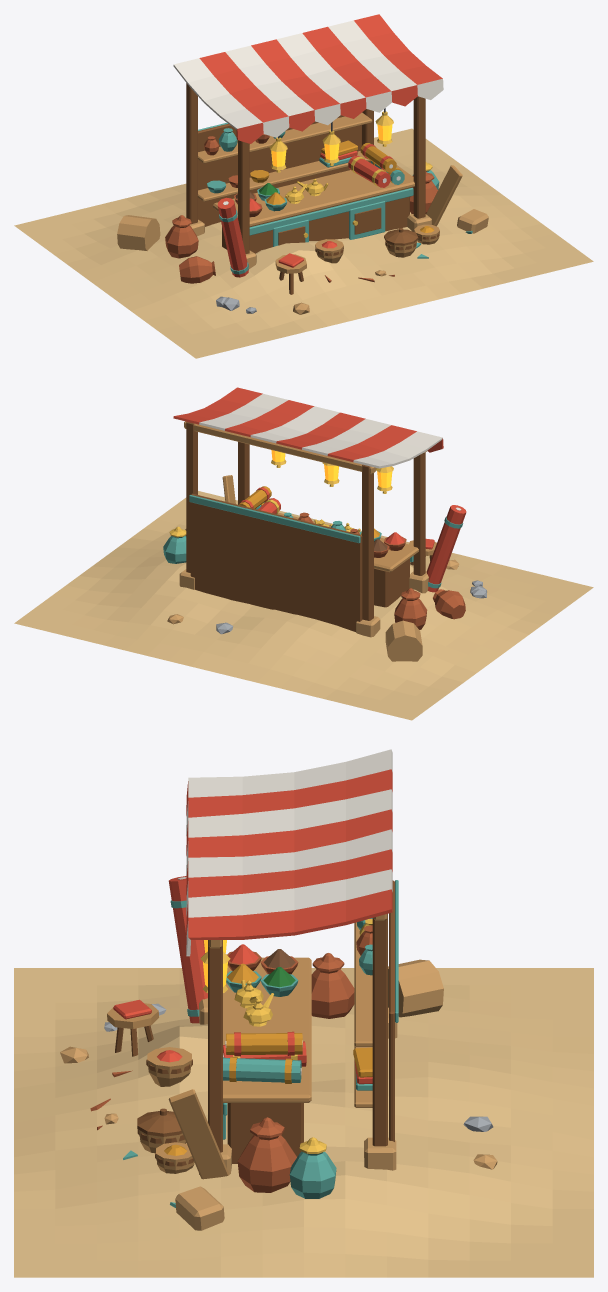
File: desert-bazaar-stall.glb
3 renders of one model, top to bottom at view 1: azimuth 30°, elevation 25°; view 2: azimuth 150°, elevation 25°; view 3: azimuth 270°, elevation 25°, orthographic. The views are drawn at different scales.
Parts seen in each view (by area): view 1: Sand_Mound, Canopy, Back_Panel, Counter_Top, Counter_Body, Shelf_High, Post_L_B, Post_R_F, Shelf_Low, Counter_Trim, Column_Drum_Fallen, Carpet_Roll_Leaning (+12 smaller); view 2: Sand_Mound, Back_Panel, Canopy, Post_L_B, Post_L_F, Beam_Back, Carpet_Roll_Leaning, Back_Trim, Column_Drum_Fallen, Counter_Body, Post_R_B, Amphora_Tipped (+4 smaller); view 3: Sand_Mound, Canopy, Counter_Top, Post_R_B, Post_R_F, Counter_Body, Spice_Pot_1, Plank_Loose, Column_Drum_Fallen, Carpet_Roll_Leaning, Spice_Pot_3, Spice_Pot_2 (+10 smaller).
Boxes of the visible parts, x1,y1,x2,y2 form: Sand_Mound: [14, 128, 593, 358]; Canopy: [173, 14, 443, 143]; Back_Panel: [198, 115, 361, 226]; Counter_Top: [213, 165, 414, 226]; Counter_Body: [222, 188, 409, 253]; Shelf_High: [197, 112, 372, 163]; Post_L_B: [186, 83, 197, 224]; Post_R_F: [413, 96, 425, 218]; Shelf_Low: [197, 151, 370, 201]; Counter_Trim: [249, 187, 413, 235]; Column_Drum_Fallen: [117, 215, 160, 250]; Carpet_Roll_Leaning: [217, 197, 248, 277]; Sand_Mound: [14, 491, 593, 720]; Back_Panel: [190, 493, 362, 631]; Canopy: [173, 387, 443, 468]; Post_L_B: [362, 464, 373, 620]; Post_L_F: [413, 452, 425, 575]; Beam_Back: [184, 421, 375, 474]; Carpet_Roll_Leaning: [426, 505, 466, 592]; Back_Trim: [189, 495, 360, 543]; Column_Drum_Fallen: [385, 620, 422, 661]; Counter_Body: [374, 558, 409, 607]; Post_R_B: [186, 422, 197, 572]; Amphora_Tipped: [433, 589, 465, 619]; Sand_Mound: [14, 968, 593, 1277]; Canopy: [186, 749, 392, 956]; Counter_Top: [223, 957, 311, 1102]; Post_R_B: [372, 913, 387, 1146]; Post_R_F: [208, 940, 222, 1152]; Counter_Body: [227, 1103, 303, 1163]; Spice_Pot_1: [237, 1135, 296, 1192]; Plank_Loose: [168, 1089, 229, 1179]; Column_Drum_Fallen: [388, 959, 443, 1017]; Carpet_Roll_Leaning: [168, 876, 207, 1023]; Spice_Pot_3: [311, 969, 354, 1018]; Spice_Pot_2: [289, 1151, 336, 1198].
Bounding box in the file's own units: 24 × 10.62 × 19.
